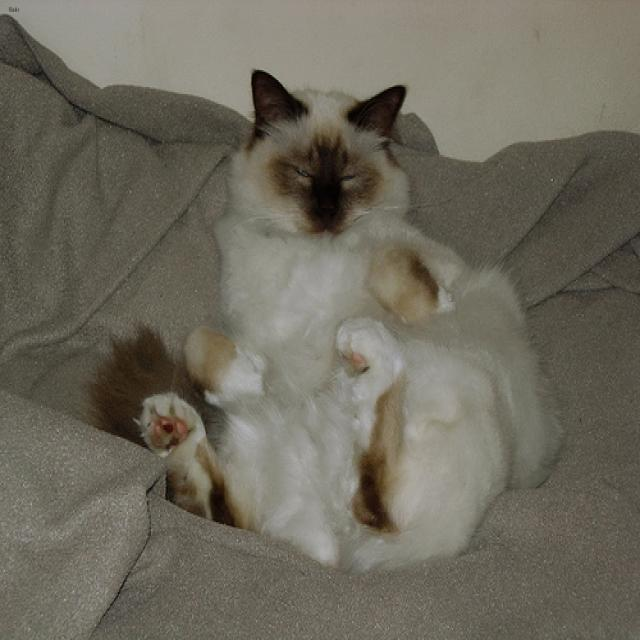Birman: (246, 69, 404, 248)
